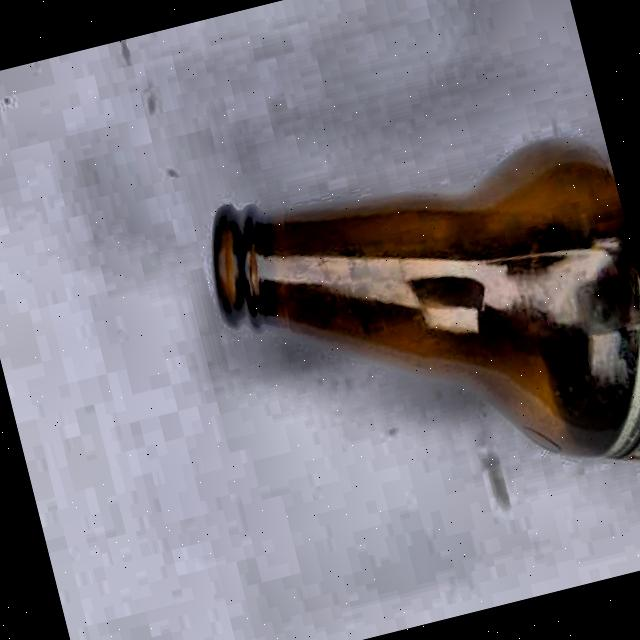glass: (195, 105, 640, 561)
